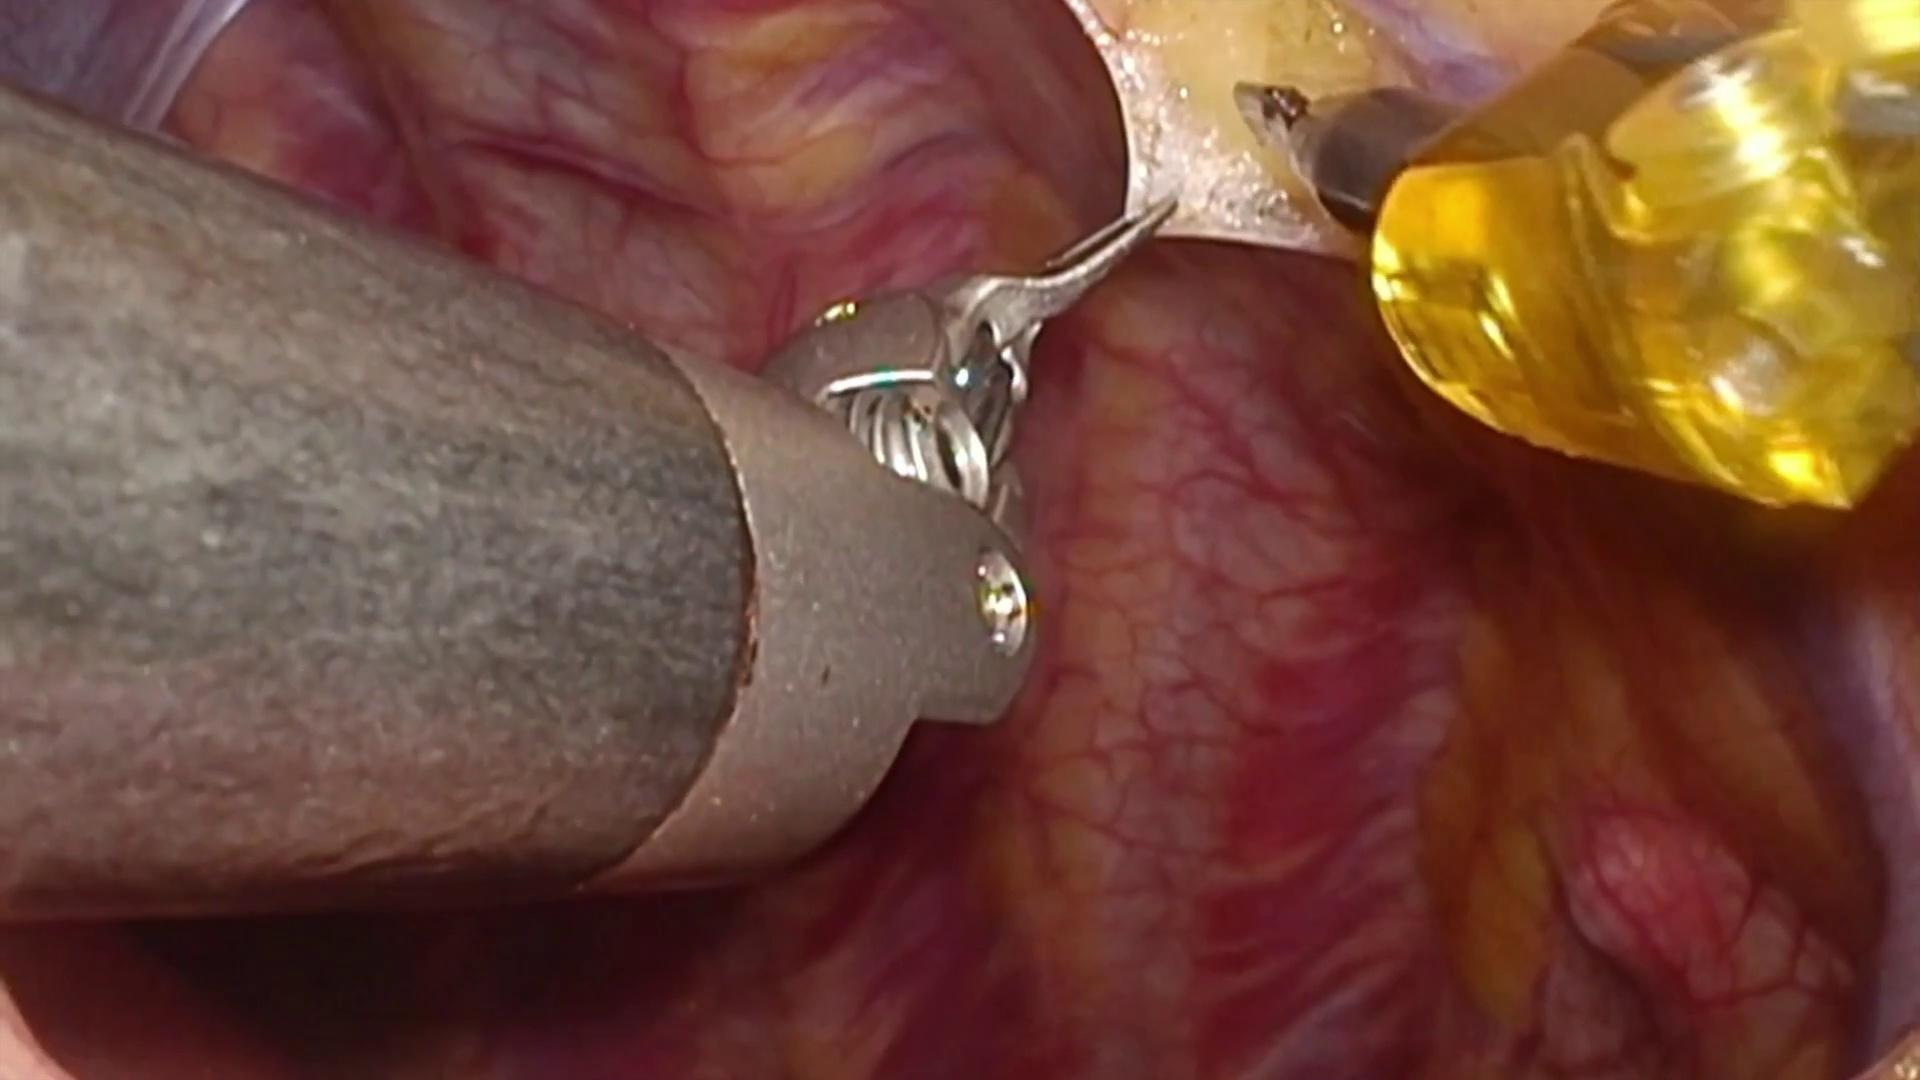Cautery_Spatula: (1230, 73, 1469, 223)
Debakey: (942, 162, 1184, 418)
